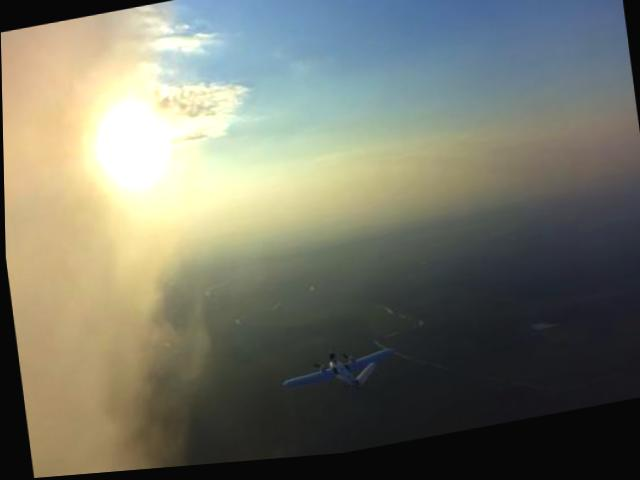uav: (273, 341, 401, 411)
